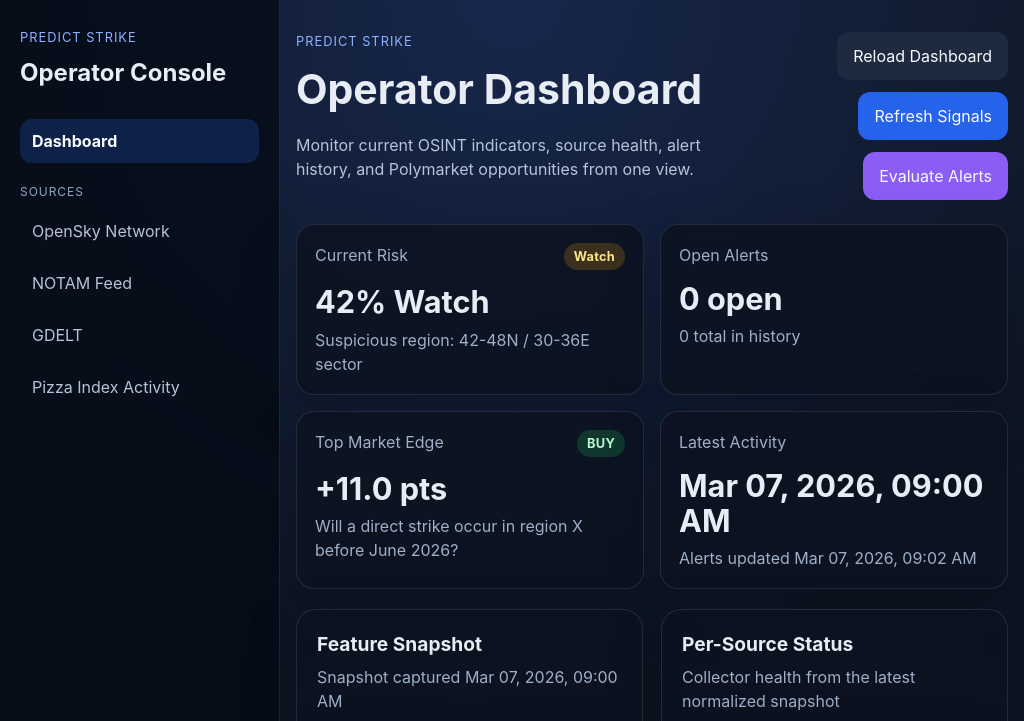
App › refreshes the NOTAM signal and shows the AI assessment output
Expected: the text "42% Watch" is shown, [315, 283, 490, 320]
Click the button "NOTAM Feed" at (140, 283), box [20, 261, 259, 305]
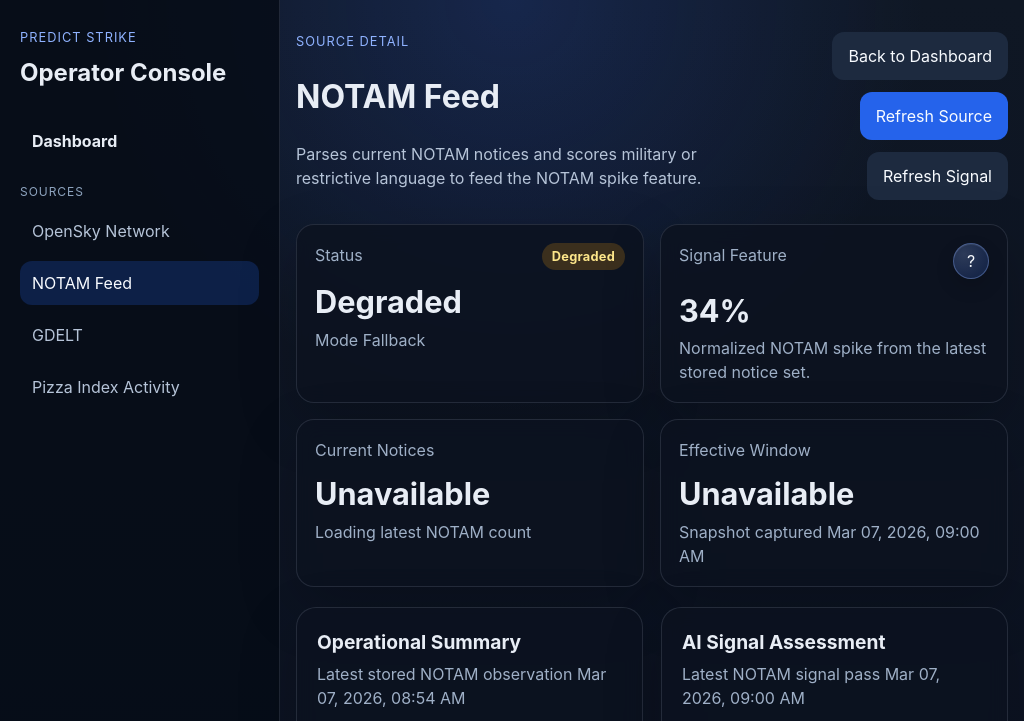
Expected: the heading "NOTAM Feed" is shown, [296, 77, 500, 116]
Click the button "Refresh Signal" at (937, 176), box [867, 152, 1008, 200]
(page scrolled)
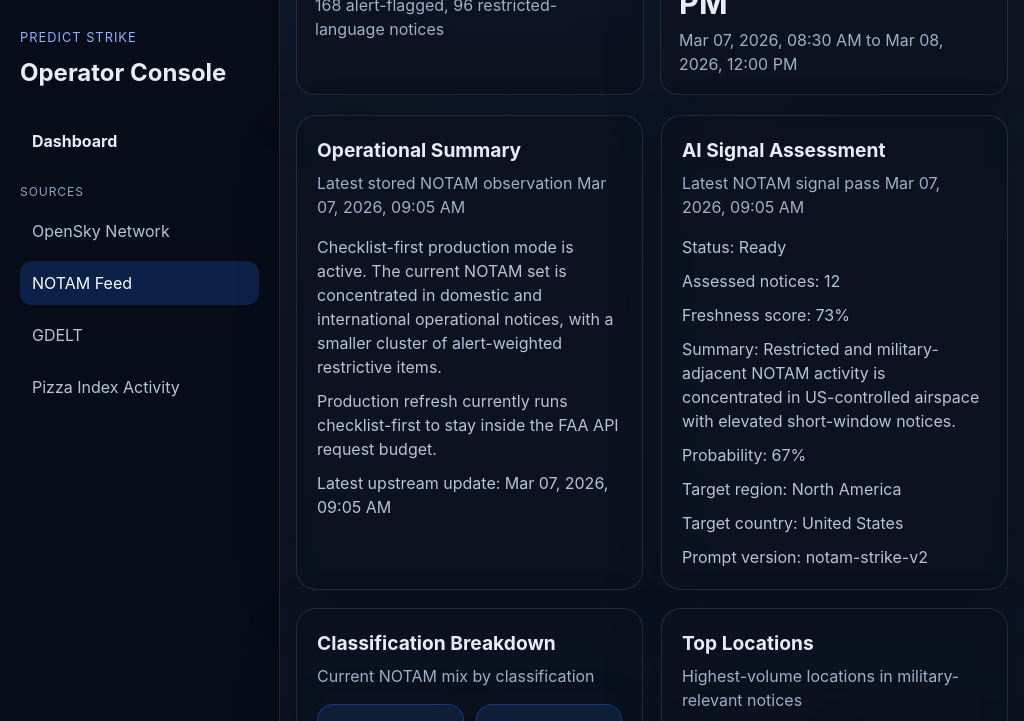
Expected: the text "Probability: 67%" is shown, [682, 445, 806, 465]
Expected: the text "Target region: North America" is shown, [682, 479, 902, 499]
Expected: the text "Target country: United States" is shown, [682, 513, 903, 533]
